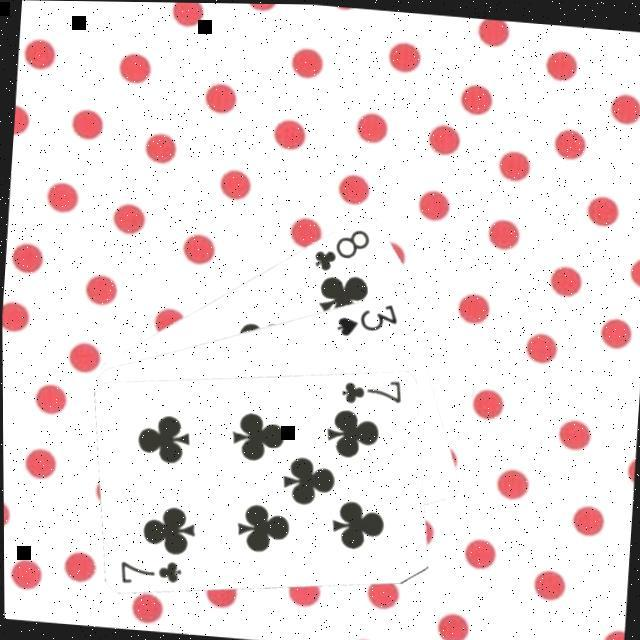3S: (332, 294, 401, 342)
7C: (336, 370, 404, 410), (114, 552, 184, 590)
8C: (308, 220, 372, 278)
